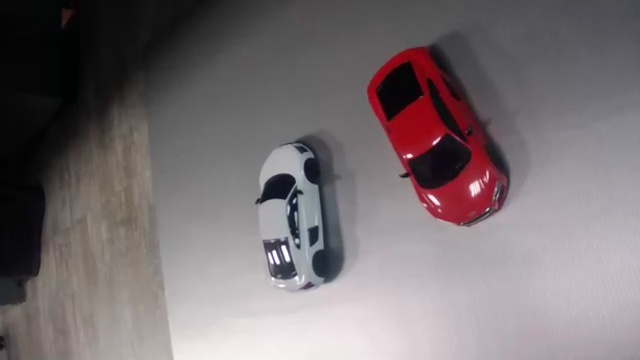car: (367, 48, 508, 227), (257, 143, 330, 288)
